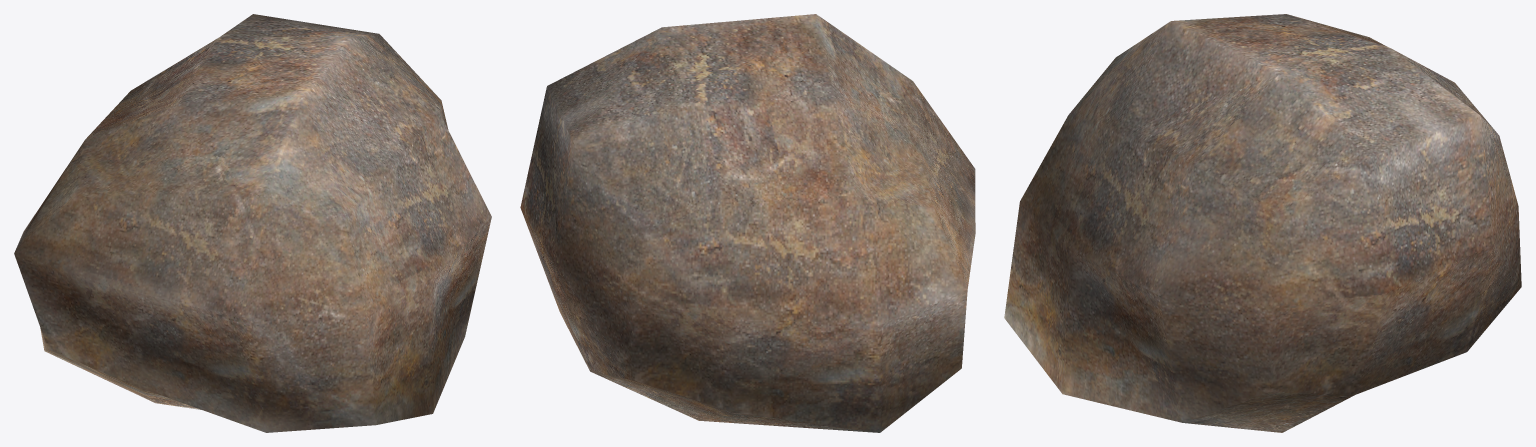
File: astroid2.glb
3 renders of one model, left to right at view 1: azimuth 30°, elevation 25°; view 2: azimuth 150°, elevation 25°; view 3: azimuth 270°, elevation 25°, orthographic. The views are drawn at different scales.
Visible parts, largest first — view 1: Rock - River Stone Low-poly.004; view 2: Rock - River Stone Low-poly.004; view 3: Rock - River Stone Low-poly.004.
Part boxes in pixels (x1,y1,x2,y2): Rock - River Stone Low-poly.004: (14,14,491,432); Rock - River Stone Low-poly.004: (520,14,975,432); Rock - River Stone Low-poly.004: (1004,14,1521,432).
Bounding box in the file's own units: 0.2918 × 0.2175 × 0.2839.
Materials: 1 (1 with a texture image).
